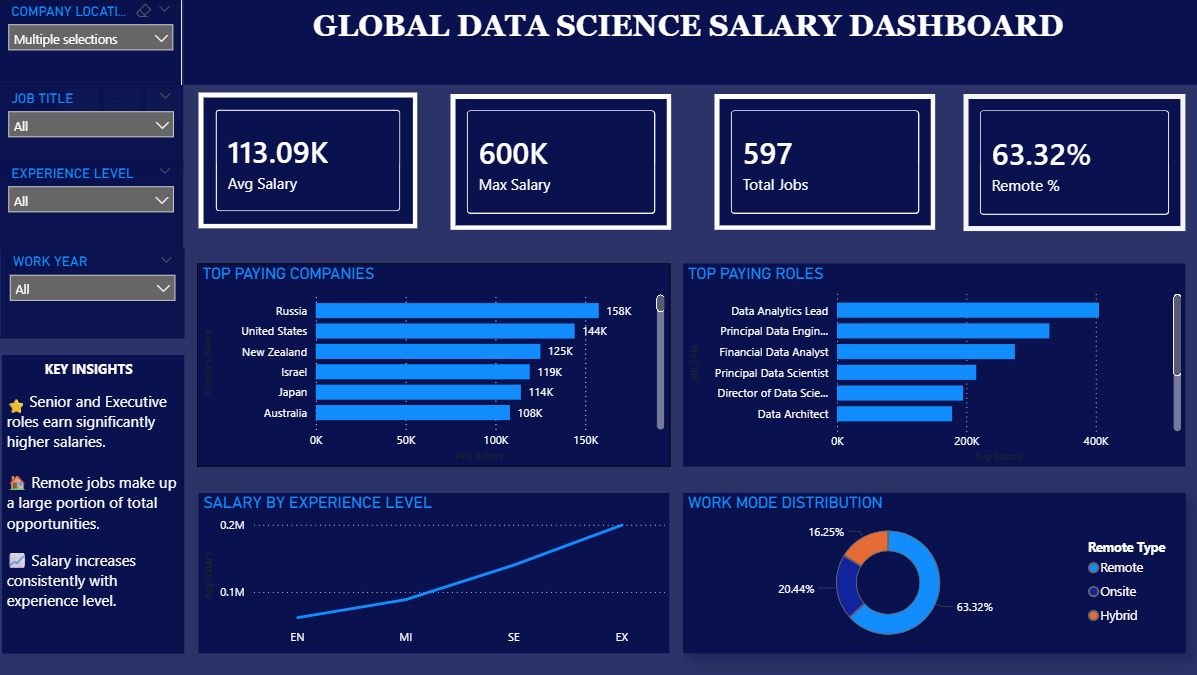

Layout of this report page (visuals, bound fields, positions):
{"tool":"powerbi","page":{"name":"Page 1","canvas":[1280,720],"ordinal":0},"visuals":[{"type":"slicer","fields":{"Values":["ds_salaries.company_location"]},"box":[0,0,194.5,94.5],"z":0},{"type":"clusteredBarChart","title":" TOP PAYING COMPANIES","fields":{"Category":["ds_salaries.Country Name"],"Y":["ds_salaries.Avg Salary"]},"box":[210,281.7,501.7,215],"z":1000},{"type":"clusteredBarChart","title":"TOP PAYING ROLES","fields":{"Category":["ds_salaries.job_title"],"Y":["ds_salaries.Avg Salary"]},"box":[725.7,281.6,532.9,215.4],"z":2000},{"type":"lineChart","title":"SALARY BY EXPERIENCE LEVEL","fields":{"Category":["ds_salaries.experience_level"],"Y":["ds_salaries.Avg Salary"]},"box":[211.6,524.9,499.5,170.2],"z":3000},{"type":"donutChart","title":"WORK MODE DISTRIBUTION","fields":{"Category":["ds_salaries.Remote Type"],"Y":["ds_salaries.Total Jobs"]},"box":[725,525,533.3,170],"z":4000},{"type":"textbox","box":[195,0,1085,91.7],"z":5000},{"type":"slicer","fields":{"Values":["ds_salaries.job_title"]},"box":[0,92.2,195.6,94.4],"z":6000},{"type":"slicer","fields":{"Values":["ds_salaries.Experience Level"]},"box":[0,171.7,195,95],"z":7000},{"type":"slicer","fields":{"Values":["ds_salaries.work_year"]},"box":[1.7,265,195,95],"z":8000},{"type":"cardVisual","fields":{"Data":["ds_salaries.Avg Salary"]},"box":[212,100,232,144],"z":9000},{"type":"cardVisual","fields":{"Data":["ds_salaries.Max Salary"]},"box":[478,102,234,144],"z":10000},{"type":"cardVisual","fields":{"Data":["ds_salaries.Total Jobs"]},"box":[758,102,234,144],"z":11000},{"type":"cardVisual","fields":{"Data":["ds_salaries.Remote %"]},"box":[1023.3,101.7,235,145],"z":12000},{"type":"textbox","box":[3.3,378.3,193.3,316.7],"z":13000}]}

Visuals, with their boxes in screenshot pixels (x1, y1, x2, y2), scaled from the page's 1280x720 canvas onto the 1197x675 screenshot:
slicer - ds_salaries.company_location: (0,0,182,89)
" TOP PAYING COMPANIES" clusteredBarChart: (196,264,666,466)
"TOP PAYING ROLES" clusteredBarChart: (679,264,1177,466)
"SALARY BY EXPERIENCE LEVEL" lineChart: (198,492,665,652)
"WORK MODE DISTRIBUTION" donutChart: (678,492,1177,652)
textbox: (182,0,1196,86)
slicer - ds_salaries.job_title: (0,86,183,175)
slicer - ds_salaries.Experience Level: (0,161,182,250)
slicer - ds_salaries.work_year: (2,248,184,338)
cardVisual - ds_salaries.Avg Salary: (198,94,415,229)
cardVisual - ds_salaries.Max Salary: (447,96,666,231)
cardVisual - ds_salaries.Total Jobs: (709,96,928,231)
cardVisual - ds_salaries.Remote %: (957,95,1177,231)
textbox: (3,355,184,652)
